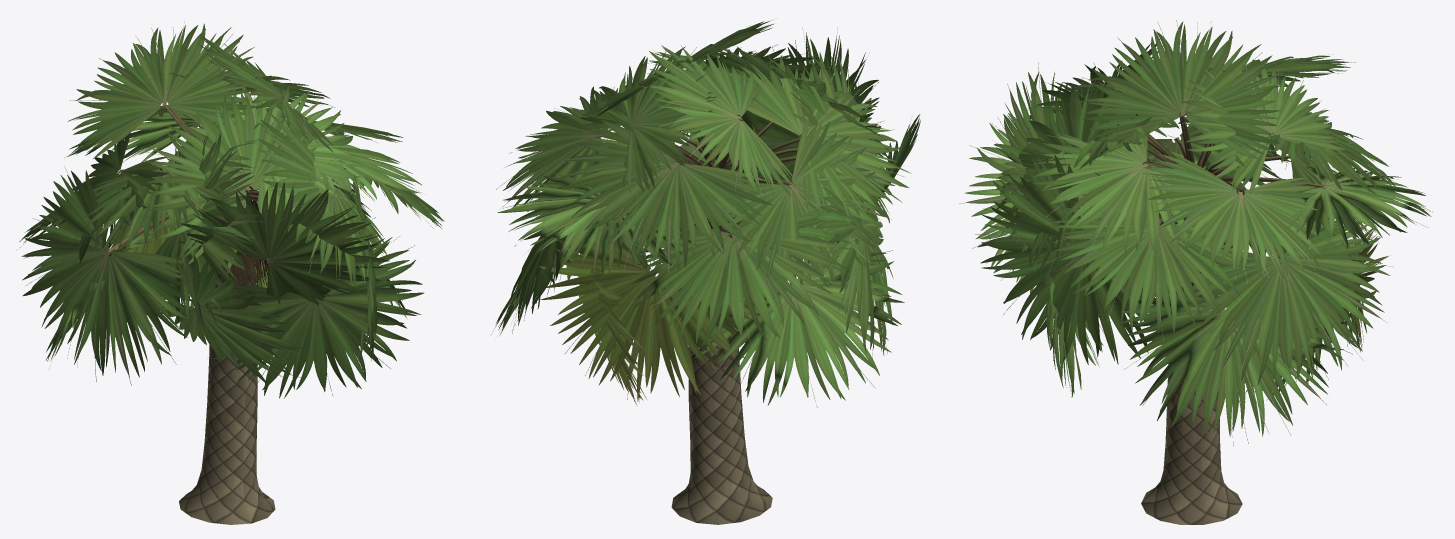
The model's file is mm6_deco_tree21.glb.
The picture shows the model from 3 angles, left to right: view 1: azimuth 30°, elevation 25°; view 2: azimuth 150°, elevation 25°; view 3: azimuth 270°, elevation 25°; orthographic projection. The views are drawn at different scales.
Parts seen in each view (by area): view 1: Plant; view 2: Plant; view 3: Plant.
Part boxes in pixels (x1,y1,x2,y2): Plant: (16, 21, 444, 524); Plant: (491, 19, 920, 524); Plant: (959, 20, 1432, 524).
Size of the model in its own units: 3.49 by 4.15 by 3.8.
2 materials, 2 textured.
